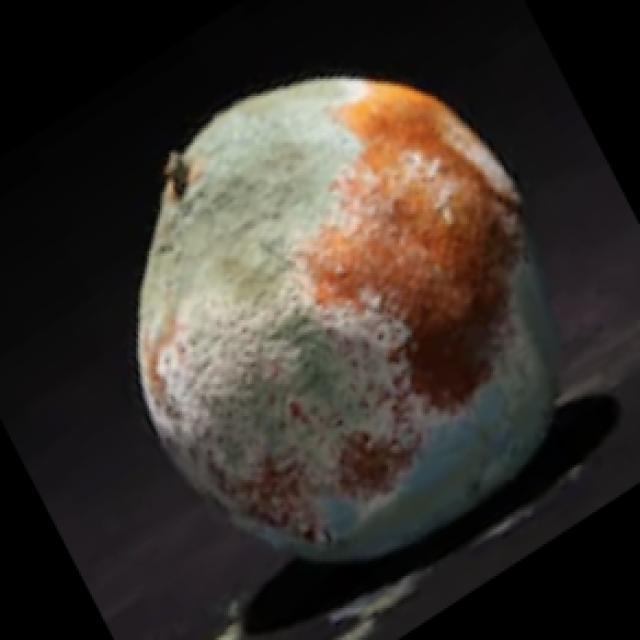sangat-busuk: (139, 77, 555, 560)
